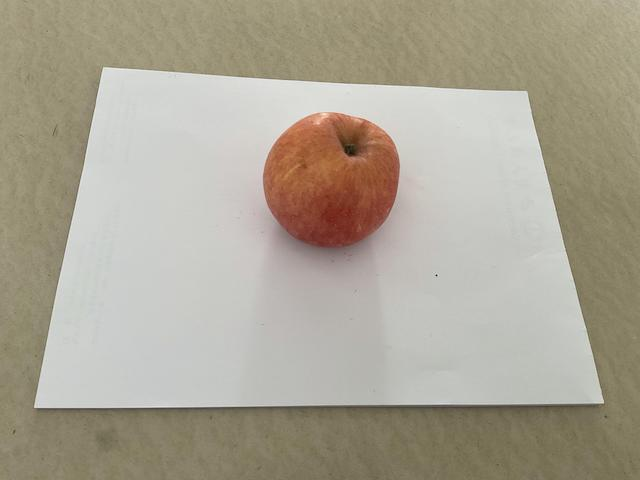apple: (261, 107, 403, 250)
